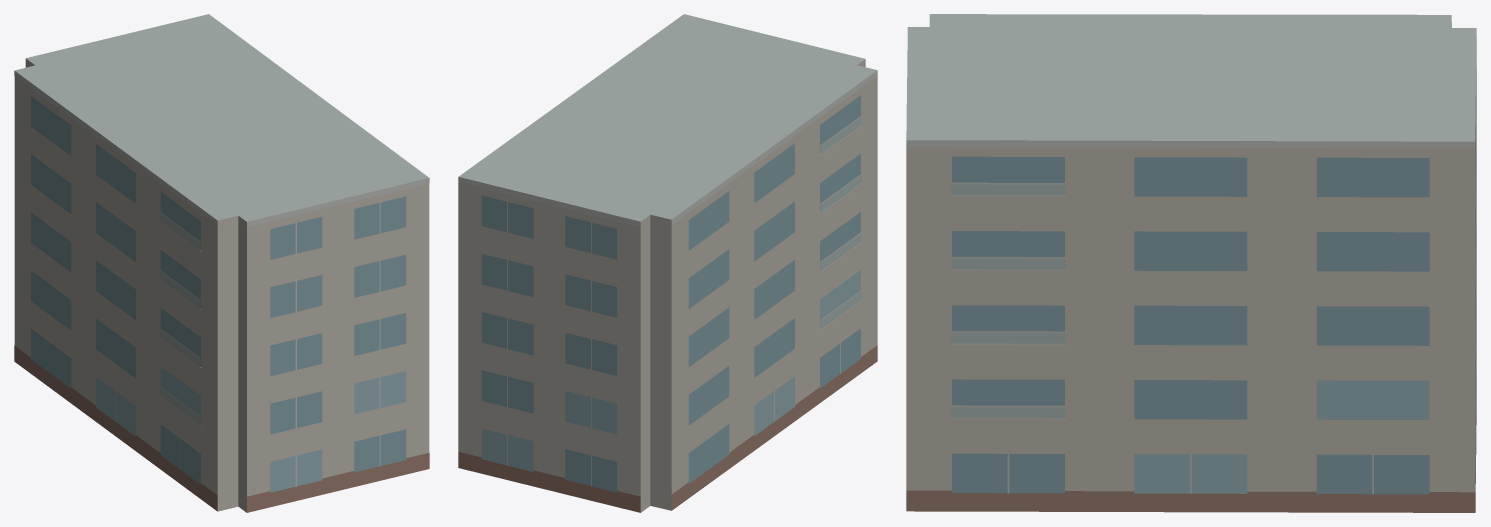
Rendered from survey-upis-32915248.glb.
3 views of the same model, side by side, from view 1: azimuth 30°, elevation 25°; view 2: azimuth 150°, elevation 25°; view 3: azimuth 270°, elevation 25° (orthographic). The views are drawn at different scales.
Visible parts, largest first — view 1: survey-upis-32915248.tmp; view 2: survey-upis-32915248.tmp; view 3: survey-upis-32915248.tmp.
Part boxes in pixels (bbox=[...]): survey-upis-32915248.tmp: bbox=[14, 14, 429, 512]; survey-upis-32915248.tmp: bbox=[458, 14, 877, 512]; survey-upis-32915248.tmp: bbox=[906, 14, 1476, 512].
Size of the model in its own units: 9.74 by 13.15 by 18.32.
